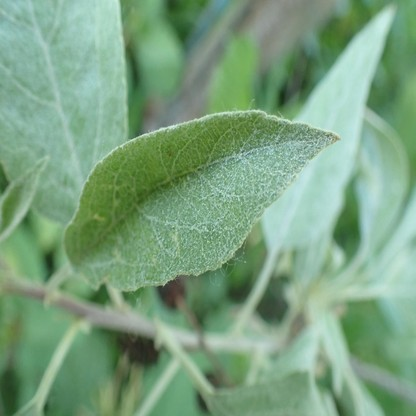powdery_mildew: (63, 110, 340, 290), (0, 0, 126, 217)
